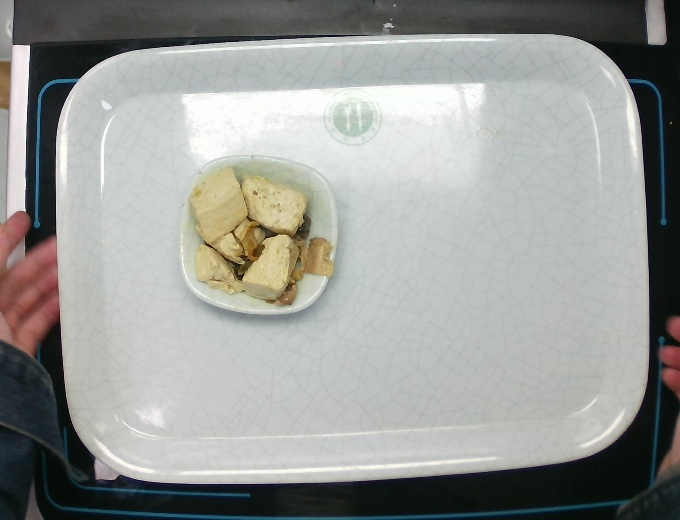JYsf-Si_Fang_Die: (178, 154, 340, 316)
